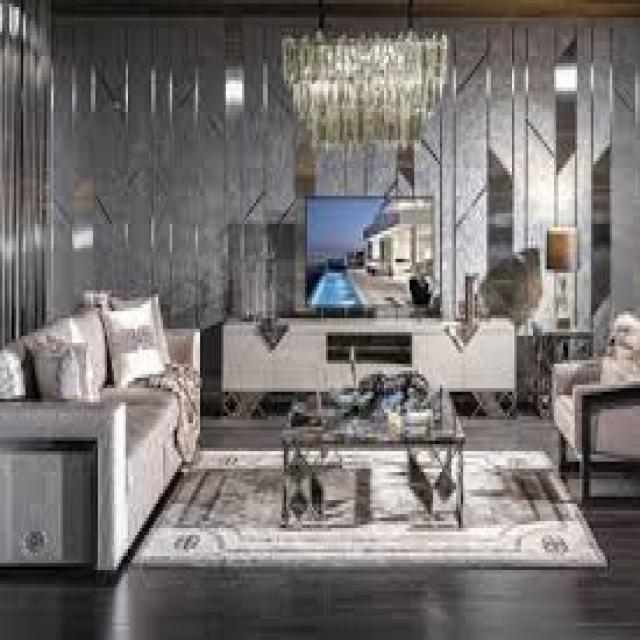Chair: (548, 308, 640, 492)
Lamp: (545, 219, 576, 323)
Sofa: (0, 300, 205, 578)
Table: (279, 380, 465, 536)
